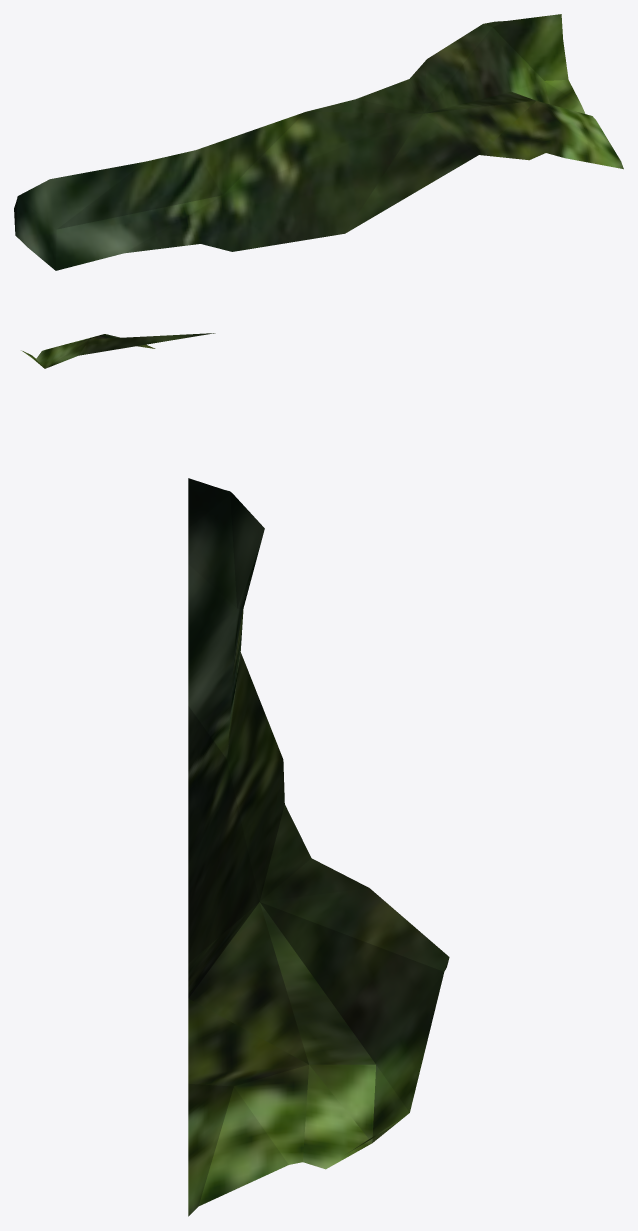
3 renders of one model, top to bottom at view 1: azimuth 30°, elevation 25°; view 2: azimuth 150°, elevation 25°; view 3: azimuth 270°, elevation 25°, orthographic. The views are drawn at different scales.
Size of the model in its own units: 0.7773 by 0.1334 by 0.1588.
1 material, 1 textured.
